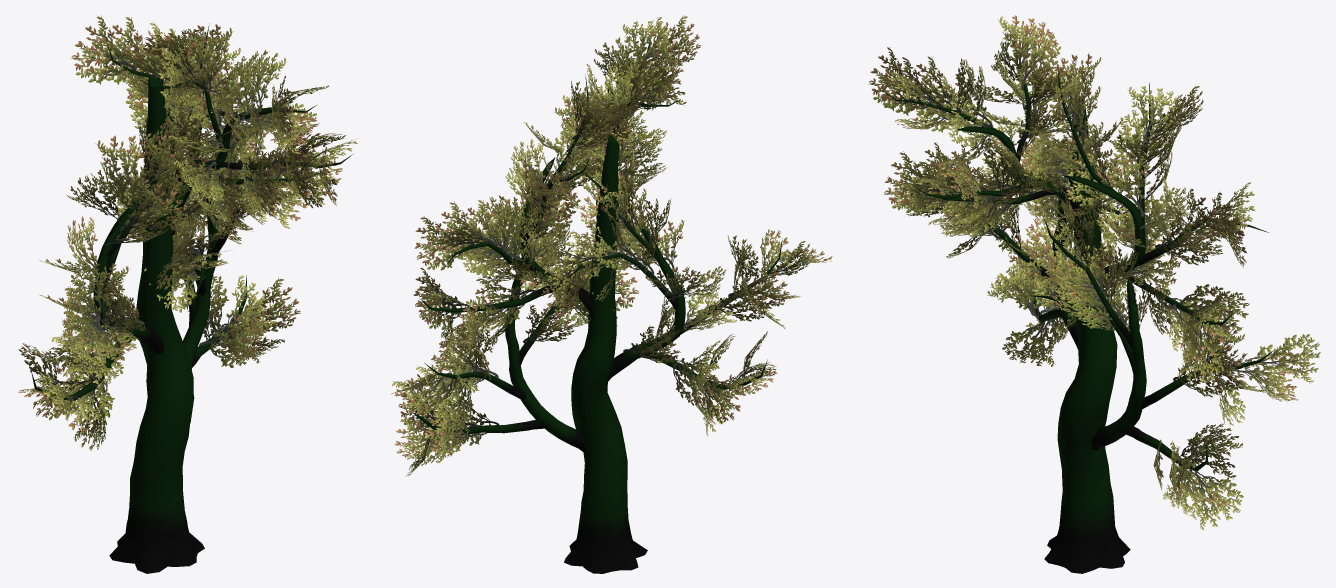
Rendered from tree6_3_afsTREE_xao_xlprl.fbx.
3 views of the same model, side by side, from view 1: azimuth 30°, elevation 25°; view 2: azimuth 150°, elevation 25°; view 3: azimuth 270°, elevation 25° (orthographic). The views are drawn at different scales.
Parts seen in each view (by area): view 1: branch.001_xw19_xt29_xp17, branch.017_xw27_xt17_xp17, leaf.055_xw29_xt25_xp27, branch.012_xw21_xt27_xp21, leaf.001_xw15_xt25_xp25, leaf.091_xw25_xt15_xp21, leaf1.023_xw25_xt19_xp23, leaf.083_xw19_xt25_xp23, leaf.088_xw19_xt27_xp29, leaf.054_xw25_xt19_xp17, leaf.005_xw25_xt19_xp21, leaf.093_xw15_xt21_xp17 (+58 smaller); view 2: branch.001_xw19_xt29_xp17, branch.017_xw27_xt17_xp17, branch.012_xw21_xt27_xp21, leaf.050_xw23_xt27_xp25, leaf.010_xw29_xt17_xp19, leaf.028_xw27_xt27_xp21, leaf.021_xw15_xt29_xp27, leaf.049_xw29_xt19_xp15, leaf.026_xw25_xt25_xp15, leaf1.090_xw23_xt15_xp29, leaf.034_xw29_xt29_xp29, leaf.011_xw23_xt25_xp25 (+48 smaller); view 3: branch.001_xw19_xt29_xp17, branch.017_xw27_xt17_xp17, leaf.065_xw23_xt29_xp29, leaf.084_xw27_xt23_xp21, branch.007_xw23_xt15_xp19, leaf1.010_xw23_xt27_xp21, leaf1.004_xw15_xt23_xp17, leaf.059_xw15_xt17_xp29, leaf1.055_xw29_xt19_xp21, leaf.009_xw17_xt23_xp21, leaf.044_xw15_xt15_xp27, leaf1.034_xw21_xt27_xp29 (+59 smaller).
Part boxes in pixels (left/top/right/bottom): branch.001_xw19_xt29_xp17: left=109, top=77, right=204, bottom=573; branch.017_xw27_xt17_xp17: left=183, top=191, right=219, bottom=369; leaf.055_xw29_xt25_xp27: left=71, top=15, right=136, bottom=84; branch.012_xw21_xt27_xp21: left=93, top=194, right=163, bottom=354; leaf.001_xw15_xt25_xp25: left=198, top=304, right=258, bottom=367; leaf.091_xw25_xt15_xp21: left=120, top=179, right=184, bottom=232; leaf1.023_xw25_xt19_xp23: left=70, top=263, right=130, bottom=320; leaf.083_xw19_xt25_xp23: left=177, top=24, right=233, bottom=94; leaf.088_xw19_xt27_xp29: left=95, top=135, right=145, bottom=203; leaf.054_xw25_xt19_xp17: left=92, top=17, right=158, bottom=84; leaf.005_xw25_xt19_xp21: left=231, top=277, right=300, bottom=331; leaf.093_xw15_xt21_xp17: left=138, top=133, right=195, bottom=193; branch.001_xw19_xt29_xp17: left=564, top=134, right=647, bottom=573; branch.017_xw27_xt17_xp17: left=504, top=269, right=586, bottom=452; branch.012_xw21_xt27_xp21: left=607, top=221, right=685, bottom=382; leaf.050_xw23_xt27_xp25: left=414, top=216, right=475, bottom=270; leaf.010_xw29_xt17_xp19: left=392, top=372, right=451, bottom=415; leaf.028_xw27_xt27_xp21: left=699, top=374, right=746, bottom=423; leaf.021_xw15_xt29_xp27: left=708, top=276, right=770, bottom=321; leaf.049_xw29_xt19_xp15: left=432, top=201, right=493, bottom=259; leaf.026_xw25_xt25_xp15: left=667, top=355, right=719, bottom=405; leaf1.090_xw23_xt15_xp29: left=543, top=242, right=599, bottom=290; leaf.034_xw29_xt29_xp29: left=416, top=276, right=471, bottom=329; leaf.011_xw23_xt25_xp25: left=523, top=305, right=574, bottom=343; branch.001_xw19_xt29_xp17: left=1044, top=97, right=1130, bottom=573; branch.017_xw27_xt17_xp17: left=1091, top=274, right=1146, bottom=450; leaf.065_xw23_xt29_xp29: left=884, top=151, right=949, bottom=213; leaf.084_xw27_xt23_xp21: left=1010, top=24, right=1060, bottom=90; branch.007_xw23_xt15_xp19: left=1063, top=176, right=1145, bottom=287; leaf1.010_xw23_xt27_xp21: left=1260, top=334, right=1320, bottom=383; leaf1.004_xw15_xt23_xp17: left=1194, top=470, right=1243, bottom=529; leaf.059_xw15_xt17_xp29: left=877, top=57, right=942, bottom=115; leaf1.055_xw29_xt19_xp21: left=1127, top=86, right=1181, bottom=142; leaf.009_xw17_xt23_xp21: left=1233, top=344, right=1299, bottom=401; leaf.044_xw15_xt15_xp27: left=1093, top=151, right=1148, bottom=217; leaf1.034_xw21_xt27_xp29: left=1178, top=323, right=1224, bottom=383.
Bounding box in the file's own units: 88.9 × 128 × 101.
